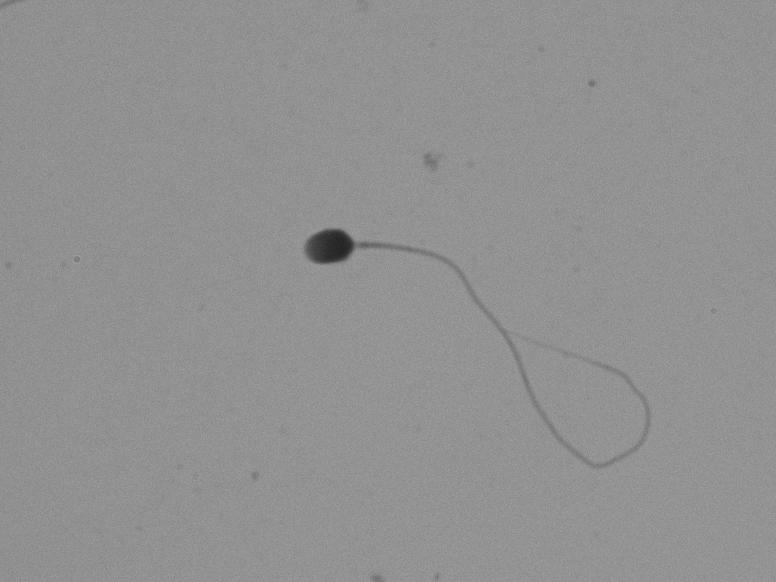Normal: (260, 186, 685, 484)
